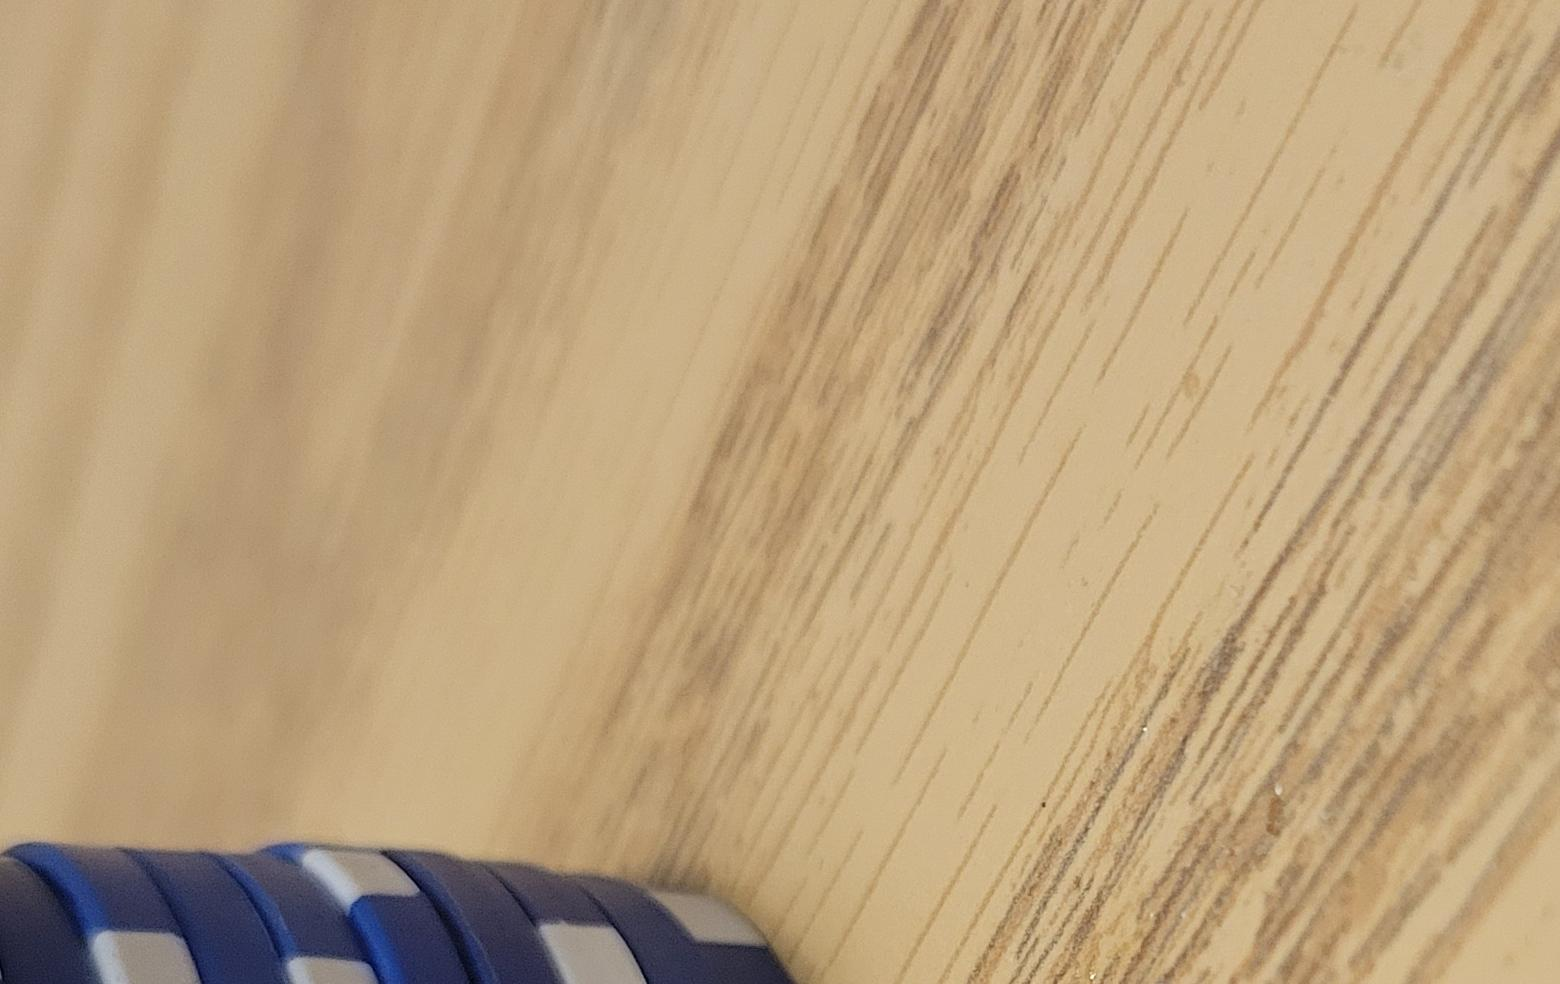Chip: (1, 127, 943, 984)
